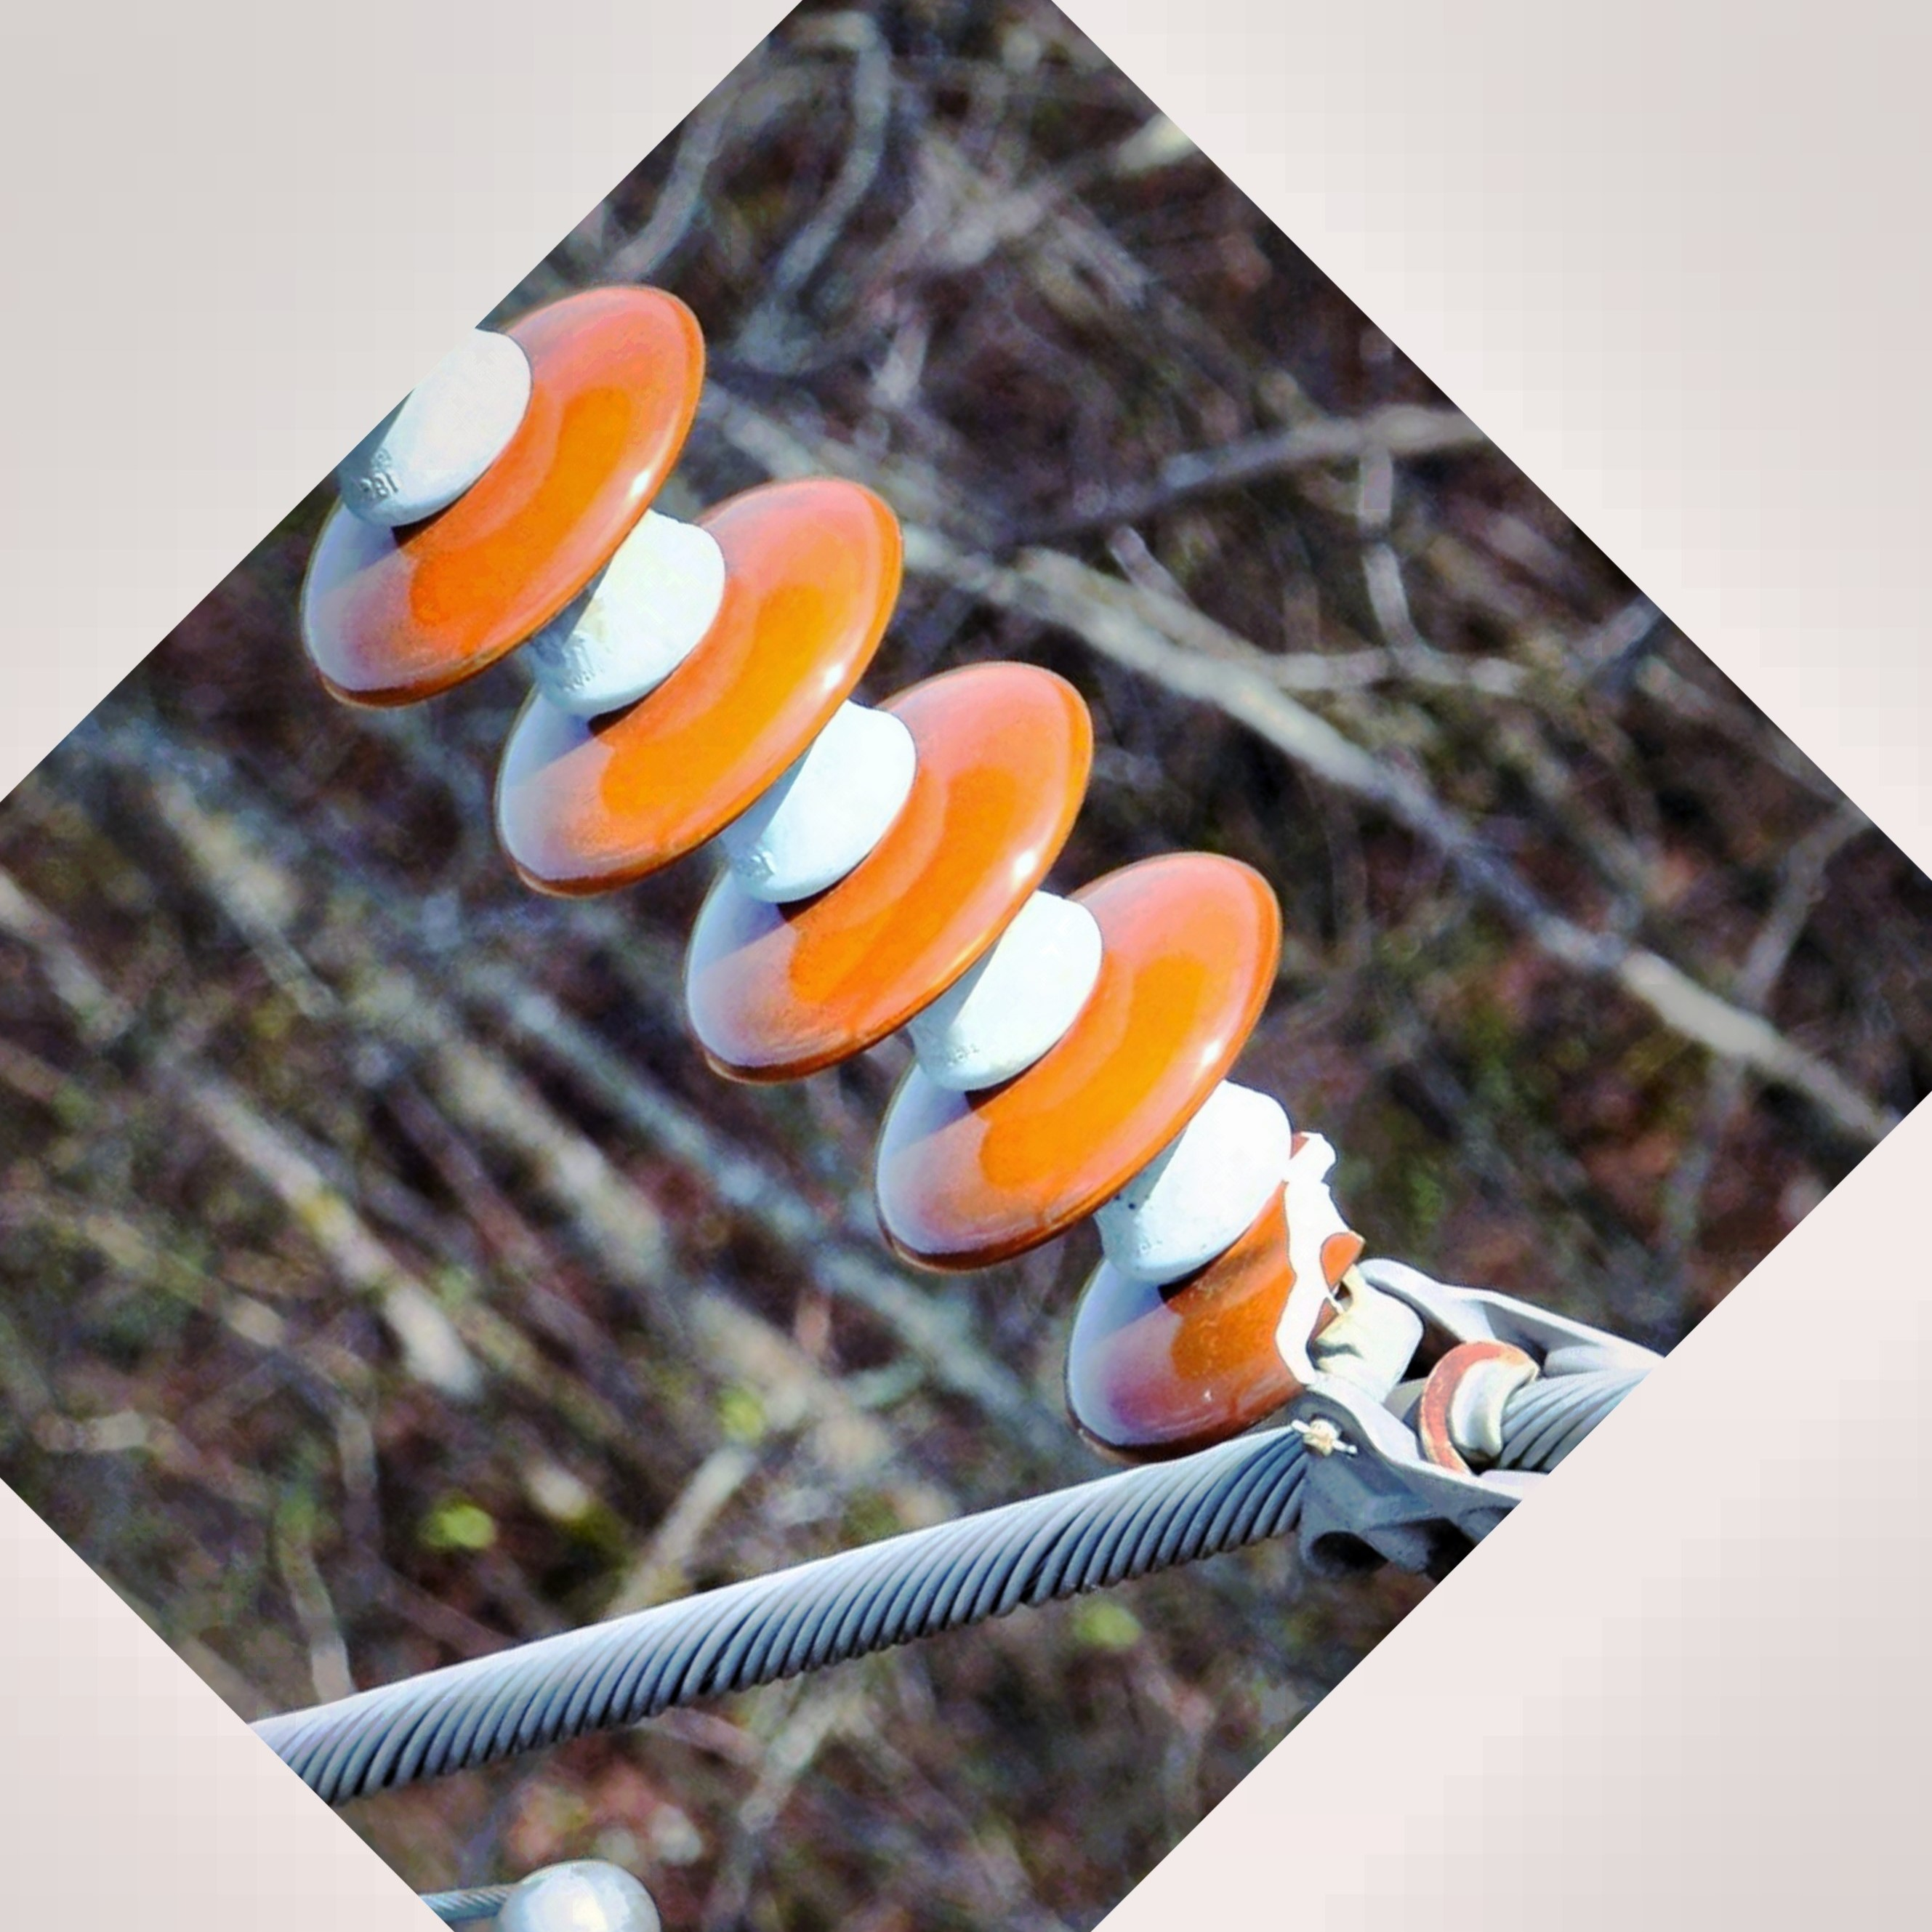insulator breakage: (1044, 1113, 1407, 1463)
